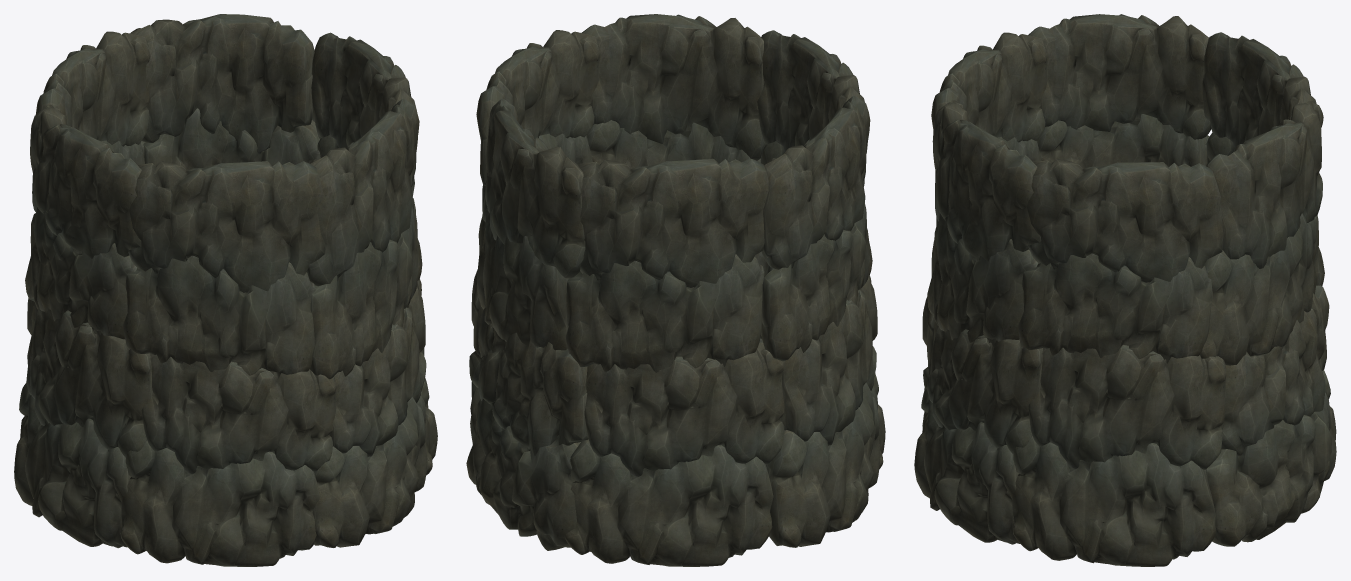
Rendered from cliffWall_longTall_cylinder.fbx.
3 views of the same model, side by side, from view 1: azimuth 30°, elevation 25°; view 2: azimuth 150°, elevation 25°; view 3: azimuth 270°, elevation 25° (orthographic).
Visible parts, largest first — view 1: cyliderCliff; view 2: cyliderCliff; view 3: cyliderCliff.
Part boxes in pixels (bbox=[...]): cyliderCliff: bbox=[14, 14, 437, 566]; cyliderCliff: bbox=[466, 14, 885, 566]; cyliderCliff: bbox=[914, 14, 1336, 566].
Bounding box in the file's own units: 969 × 1001 × 955.
